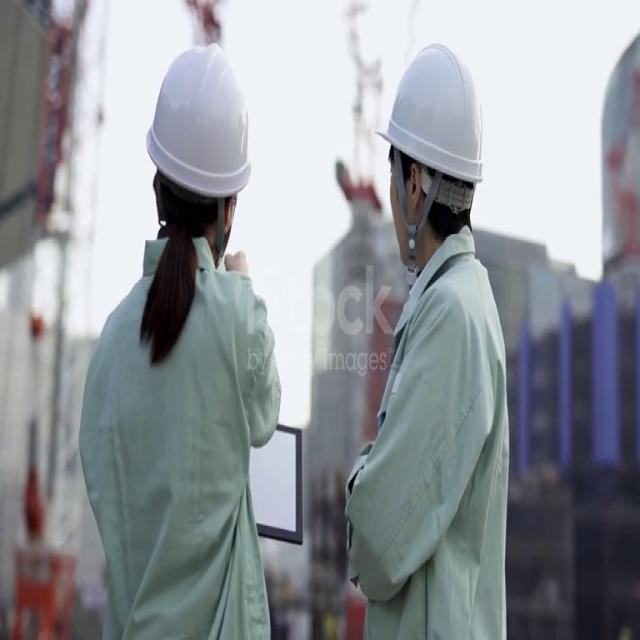capacete: (134, 28, 262, 201), (375, 28, 493, 188)
